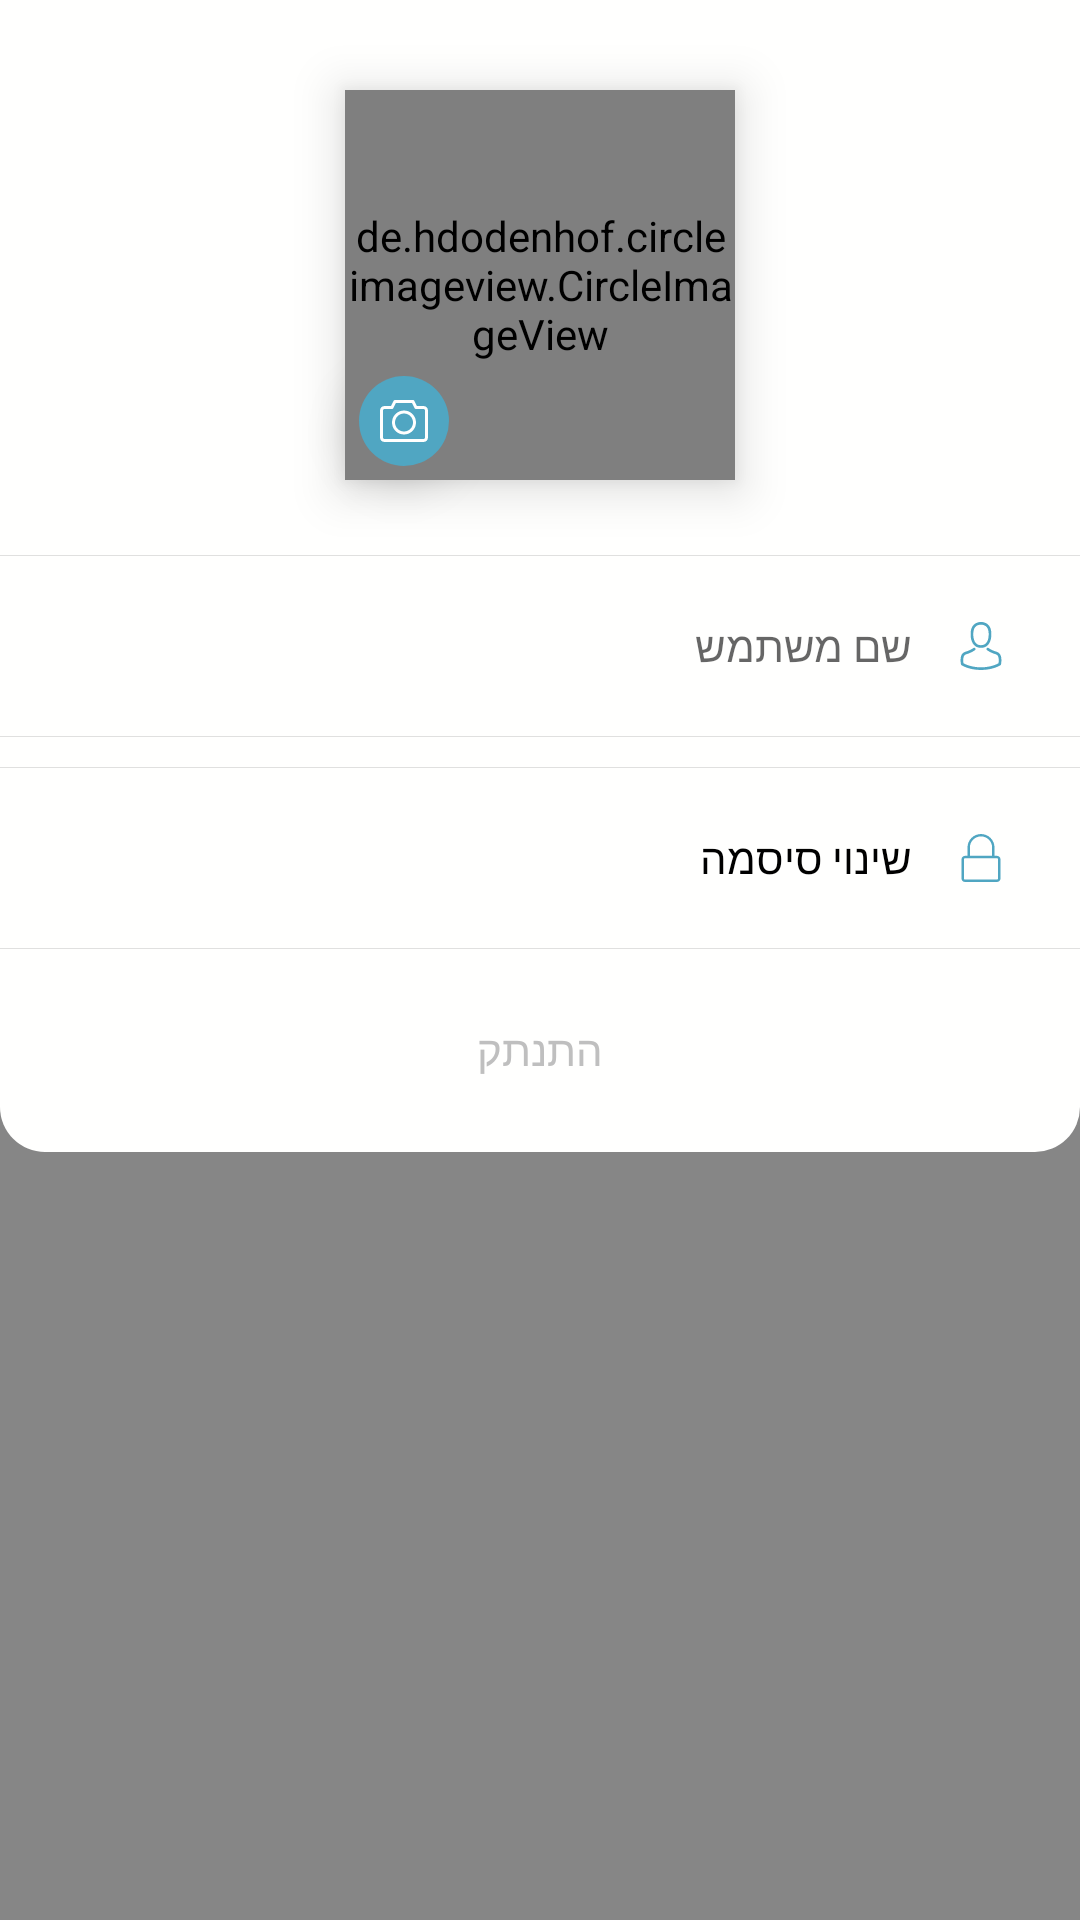

Where to tap for icons on this 1080×1920 app screen, as (x,y):
camera: (404,421)
